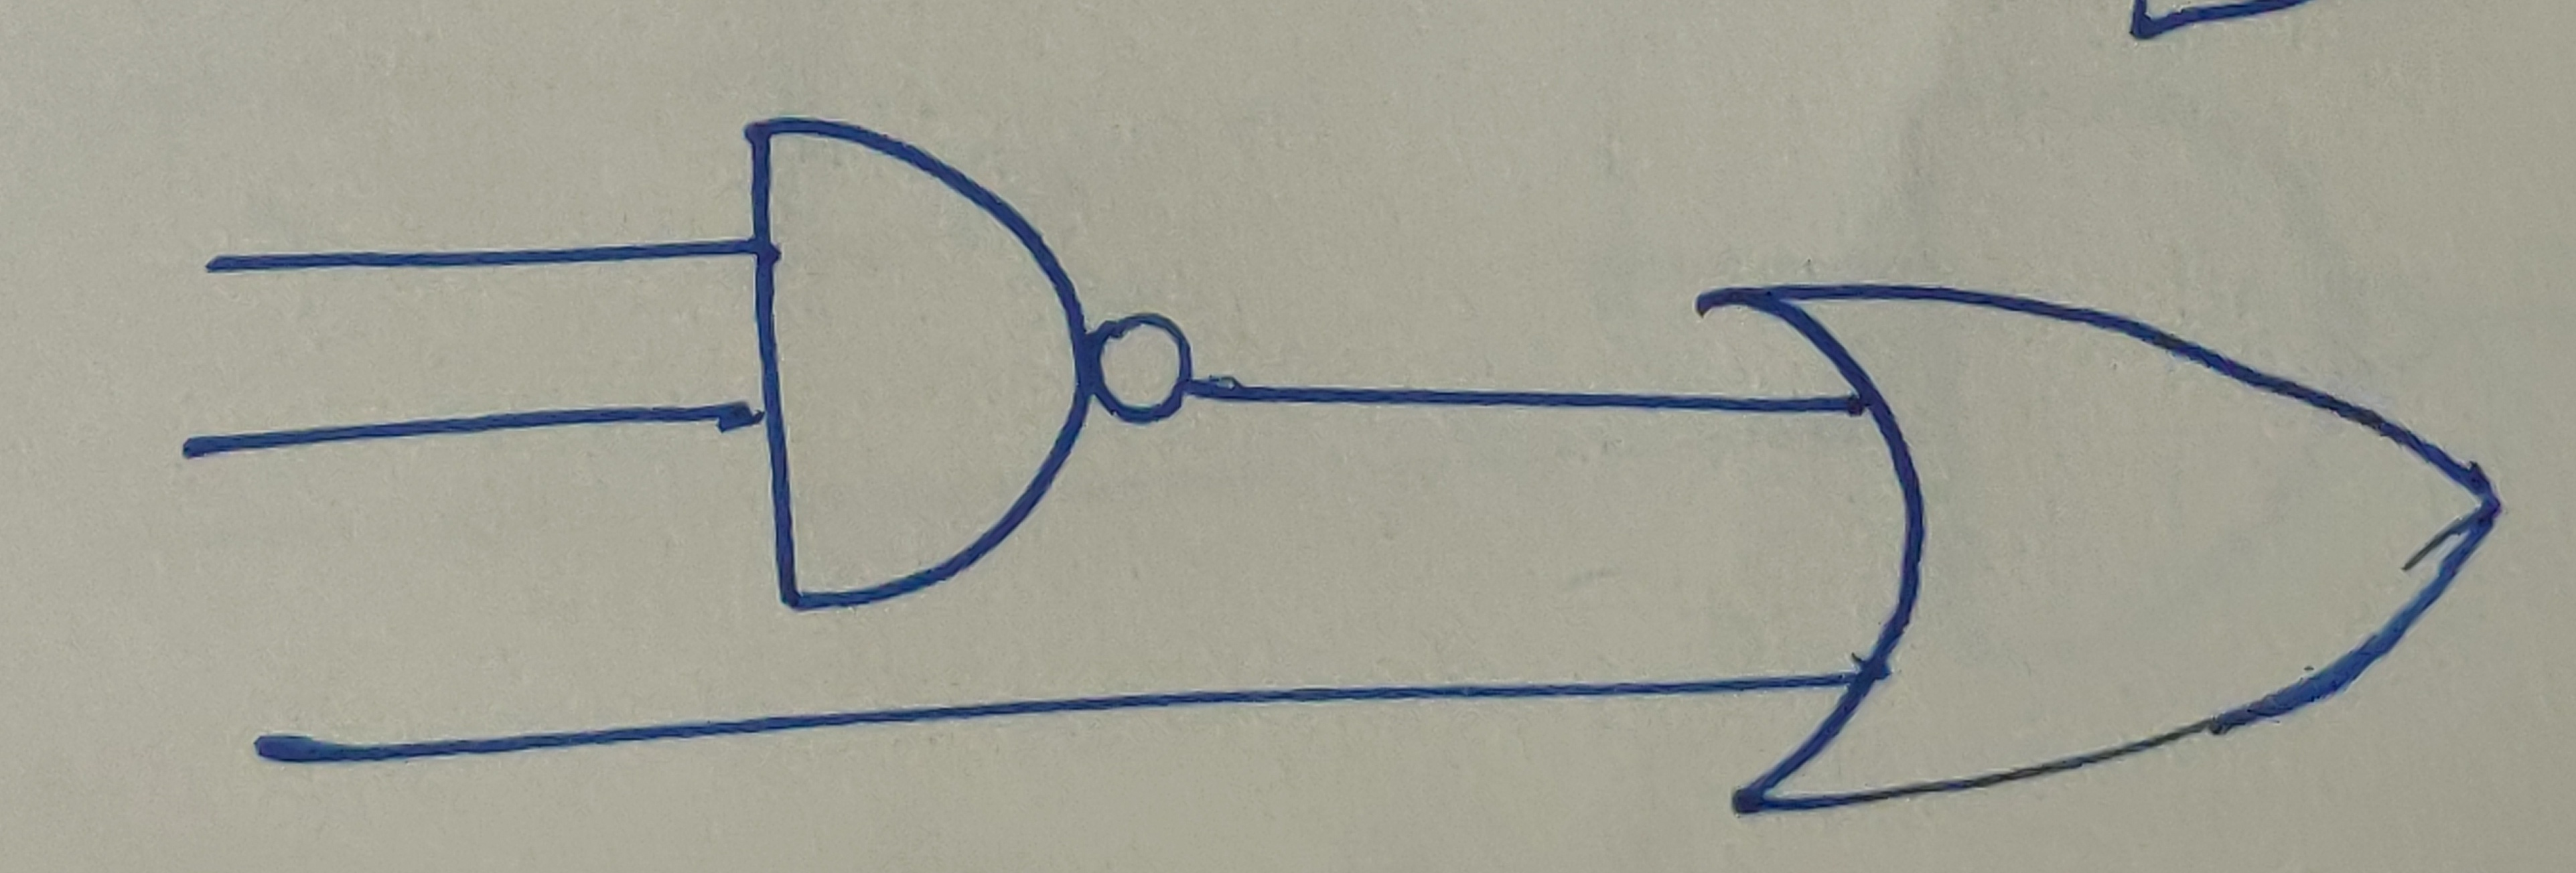and: (739, 112, 1089, 615)
not: (1089, 299, 1196, 436)
or: (1681, 276, 2525, 829)
